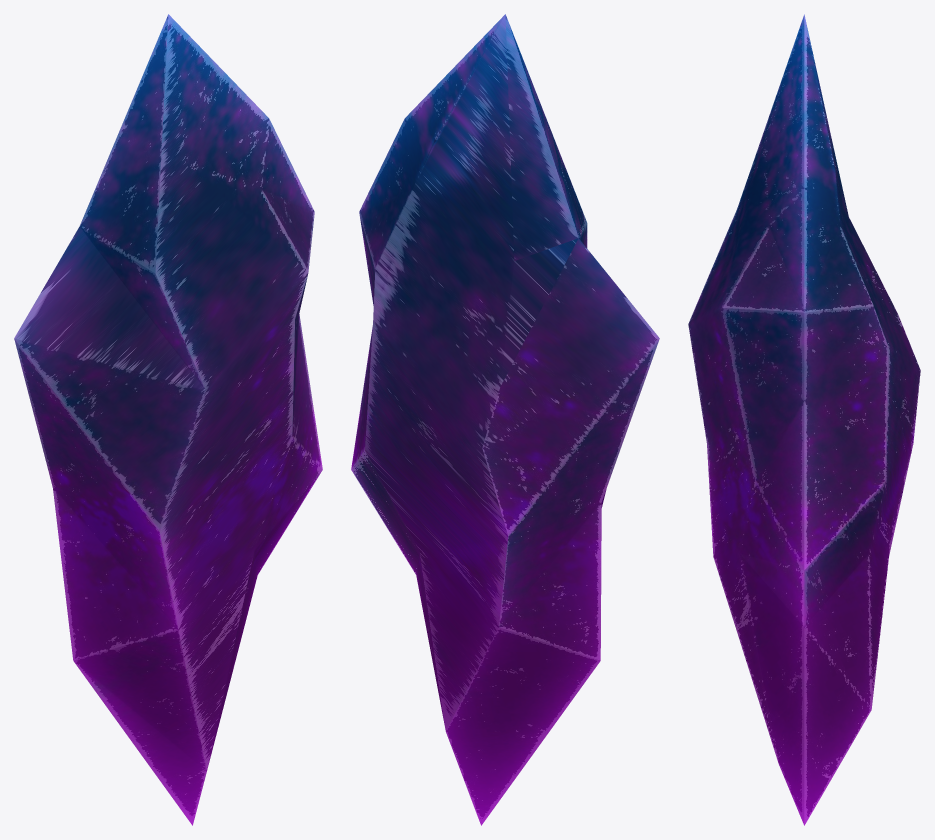
Rendered from sibur.glb.
3 views of the same model, side by side, from view 1: azimuth 30°, elevation 25°; view 2: azimuth 150°, elevation 25°; view 3: azimuth 270°, elevation 25° (orthographic). The views are drawn at different scales.
Visible parts, largest first — view 1: GiantCrystal; view 2: GiantCrystal; view 3: GiantCrystal.
Part boxes in pixels (x1,y1,x2,y2): GiantCrystal: [14, 14, 322, 825]; GiantCrystal: [351, 14, 659, 825]; GiantCrystal: [688, 14, 920, 825].
Bounding box in the file's own units: 0.7901 × 2 × 0.5264.
Materials: 1 (1 with a texture image).
